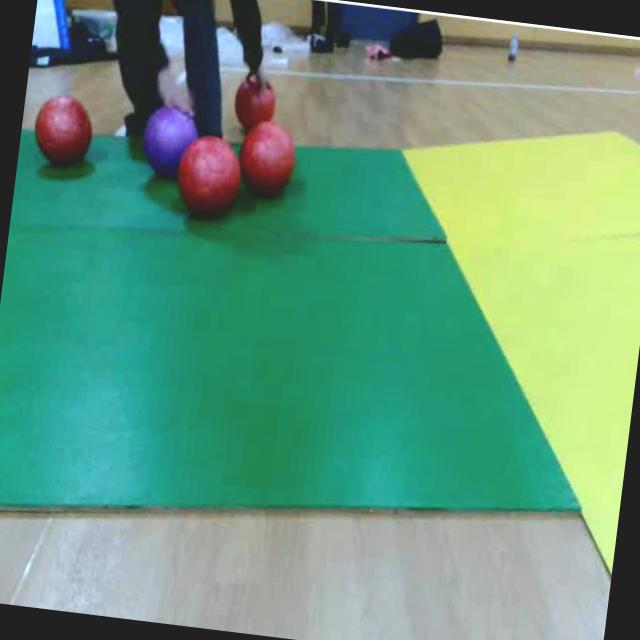purple_ball: (136, 96, 202, 190)
red_ball: (170, 128, 249, 228), (27, 86, 98, 185), (234, 114, 306, 206), (230, 65, 284, 136)
